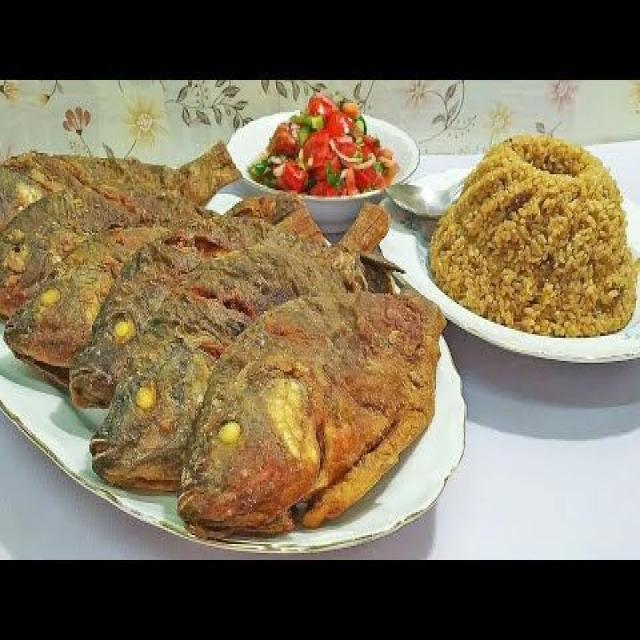Peixe: (0, 144, 447, 540), (175, 286, 446, 540)
